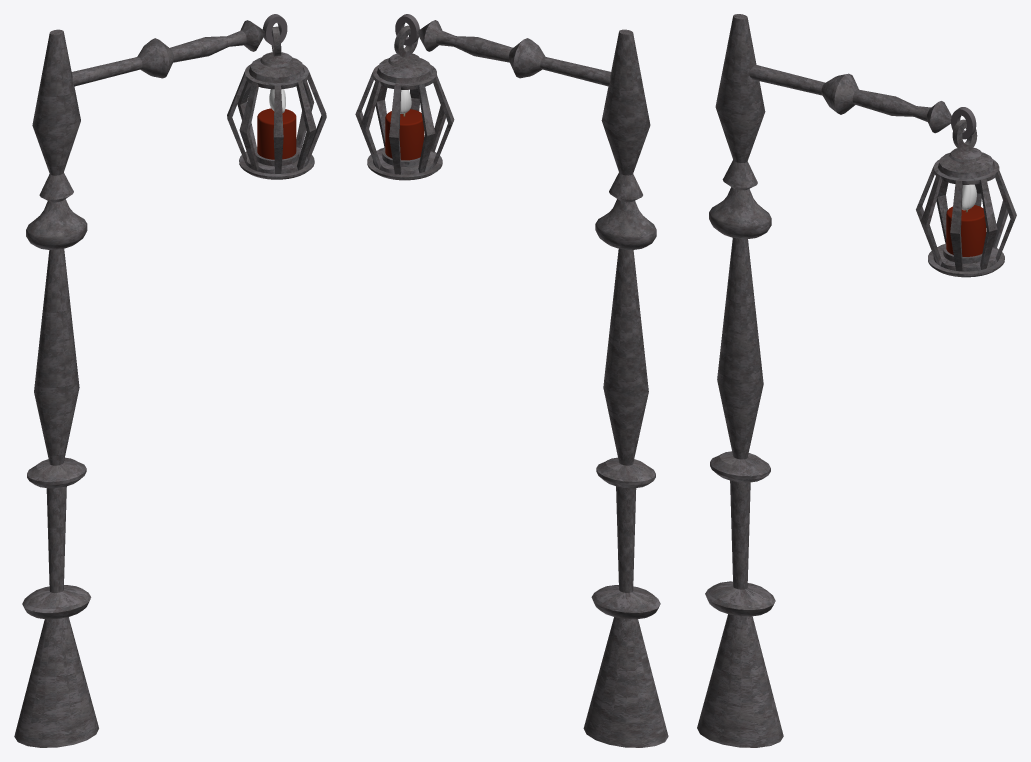
The model's file is Lantern.fbx.
3 renders of one model, left to right at view 1: azimuth 30°, elevation 25°; view 2: azimuth 150°, elevation 25°; view 3: azimuth 330°, elevation 25°, orthographic. The views are drawn at different scales.
Parts seen in each view (by area): view 1: lamp stand, candle; view 2: lamp stand, candle; view 3: lamp stand, candle.
Part boxes in pixels (box(x1,y1,x2,y2)): lamp stand: box(14, 14, 326, 747); candle: box(257, 108, 296, 159); lamp stand: box(355, 14, 668, 747); candle: box(385, 109, 424, 160); lamp stand: box(697, 14, 1016, 747); candle: box(946, 205, 986, 256).
Bounding box in the file's own units: 436 × 967 × 122.
